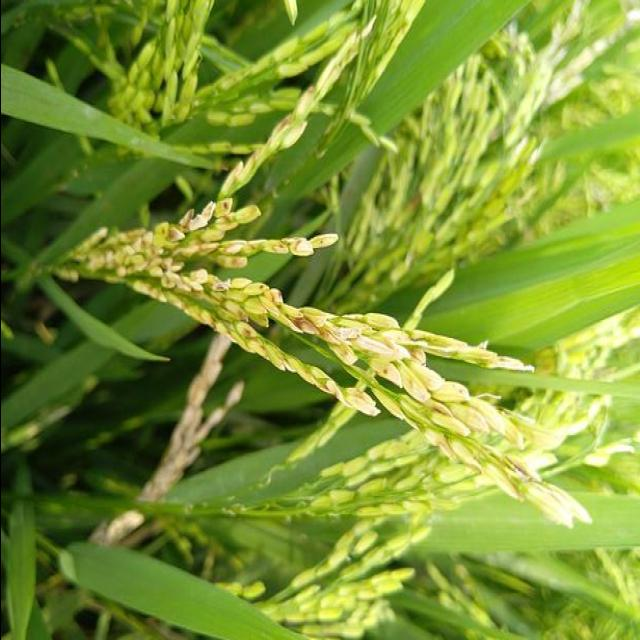Panicle Blight: (292, 308, 590, 526), (211, 277, 293, 371), (220, 109, 302, 191), (59, 229, 159, 278), (218, 237, 335, 270), (149, 258, 212, 312), (316, 377, 377, 417), (163, 209, 213, 249), (212, 195, 260, 230)
